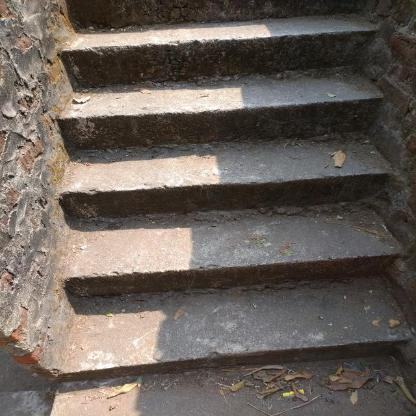stair: (50, 0, 411, 416)
